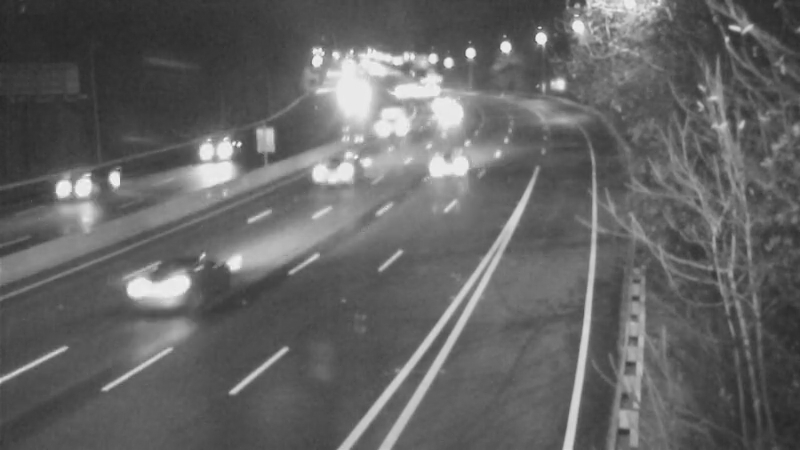vehicle: (409, 122, 489, 202), (282, 142, 362, 222), (110, 246, 190, 326), (41, 147, 121, 227), (172, 110, 252, 190), (399, 67, 449, 117), (372, 64, 422, 114), (411, 78, 461, 128), (422, 91, 472, 141), (368, 98, 418, 148)
